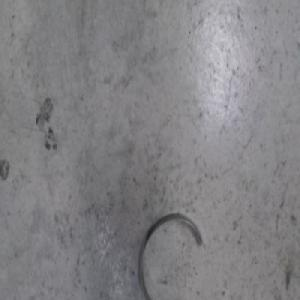AdjustableClamp: (139, 211, 207, 299)
